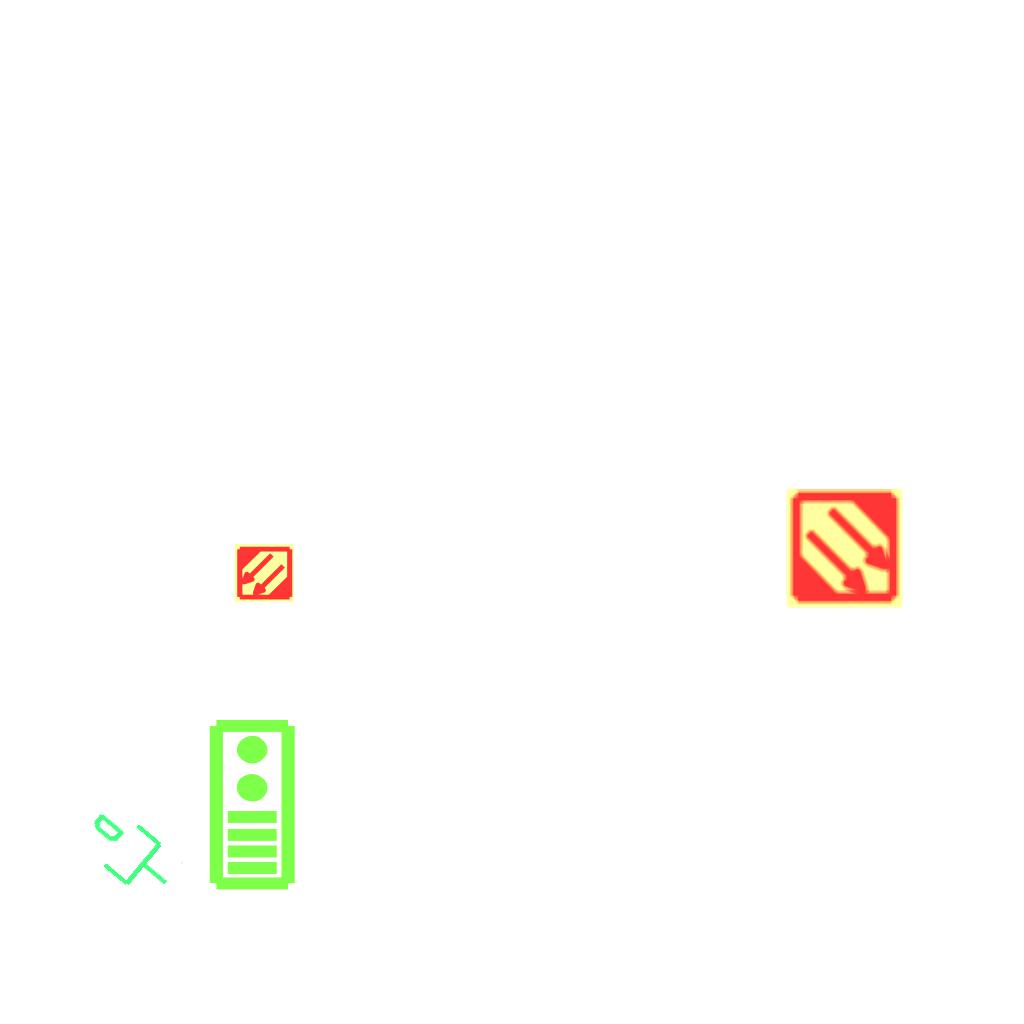ASR_Ansaugrauchmelder: (782, 486, 907, 611), (233, 542, 295, 604)
Datenanschluss_einfach: (68, 795, 189, 913)
Gegensprechanlage_mit_Video: (203, 716, 298, 892)
